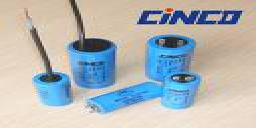Electrolytic-Capacitor: (13, 4, 74, 111), (63, 2, 119, 90), (84, 81, 168, 115), (145, 35, 198, 82), (161, 73, 202, 106)
